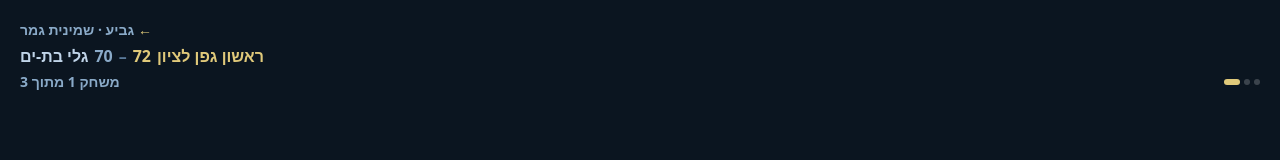
CupRoundResults (season facts) › pauses while hovered and jumps to a game from its dot
Hover over the element that starts with "גביע · שמינית גמר" at (48, 82), box top-left (0, 0), bottom-right (1279, 112)
Expected: the text "משחק 1 מתוך 3" is shown, top-left (20, 72), bottom-right (120, 92)
Click the tab named "משחק 3" at (1257, 82), box top-left (1254, 79), bottom-right (1260, 85)
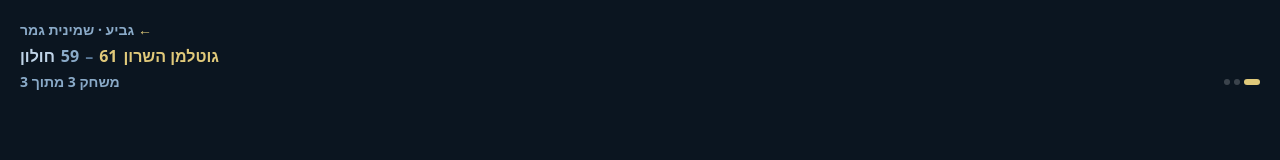
Now the text "חולון" is shown, box top-left (20, 44), bottom-right (55, 68)
